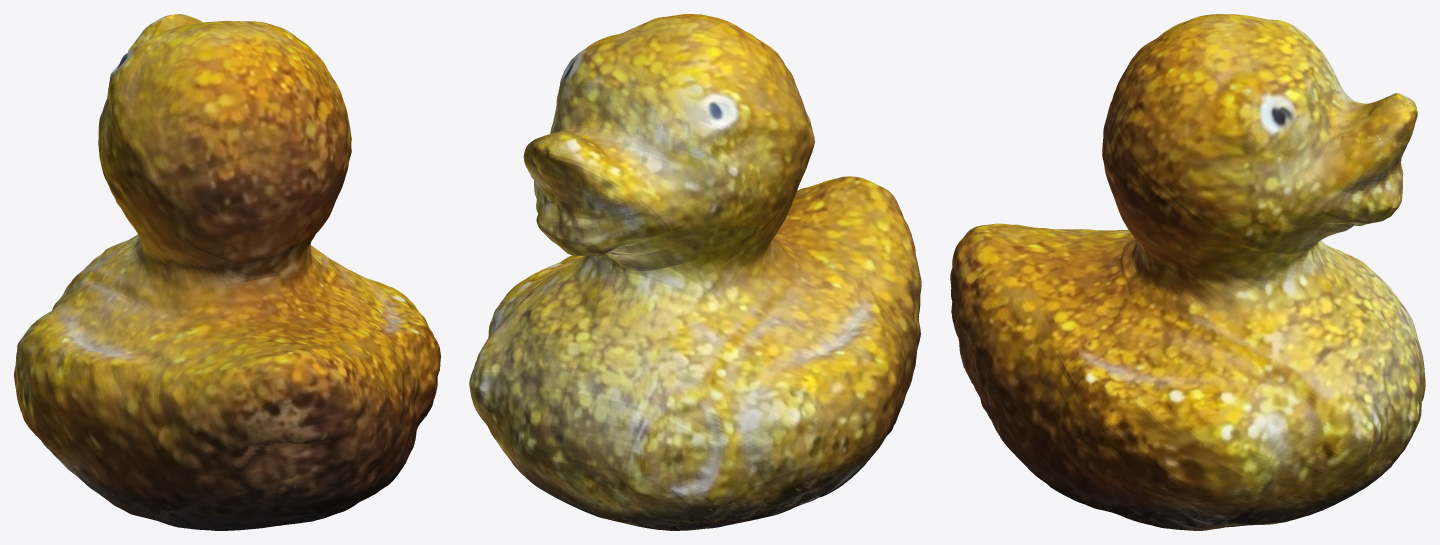
File: linnea_ente_opt.glb
3 views of the same model, side by side, from view 1: azimuth 30°, elevation 25°; view 2: azimuth 150°, elevation 25°; view 3: azimuth 270°, elevation 25° (orthographic). The views are drawn at different scales.
Visible parts, largest first — view 1: 3DModel_Custom; view 2: 3DModel_Custom; view 3: 3DModel_Custom.
Part boxes in pixels (x1,y1,x2,y2): 3DModel_Custom: (14, 14, 440, 530); 3DModel_Custom: (469, 14, 921, 530); 3DModel_Custom: (950, 14, 1425, 530).
Size of the model in its own units: 0.8801 by 1.03 by 0.9503.
1 material, 1 textured.
